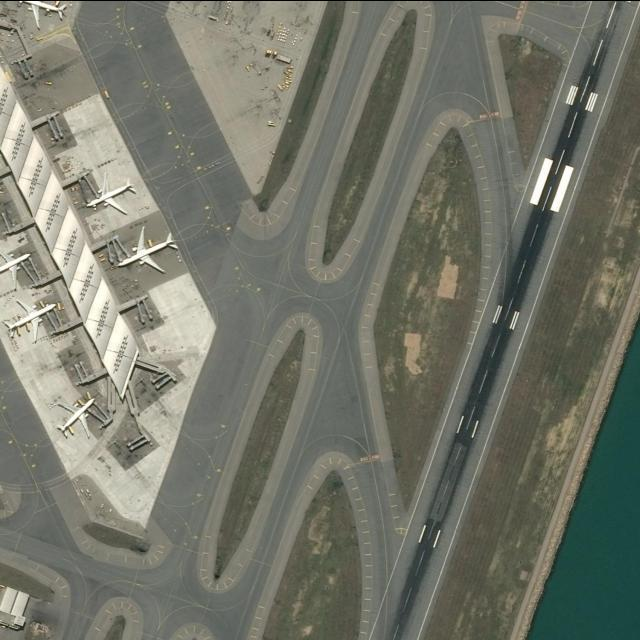Aircraft: (118, 224, 184, 278), (117, 225, 182, 276), (1, 297, 63, 345), (84, 172, 141, 218), (4, 297, 60, 343), (86, 172, 141, 216), (54, 395, 101, 444), (55, 395, 99, 440), (15, 0, 70, 32), (15, 0, 69, 30), (0, 246, 36, 288), (0, 245, 34, 287)
